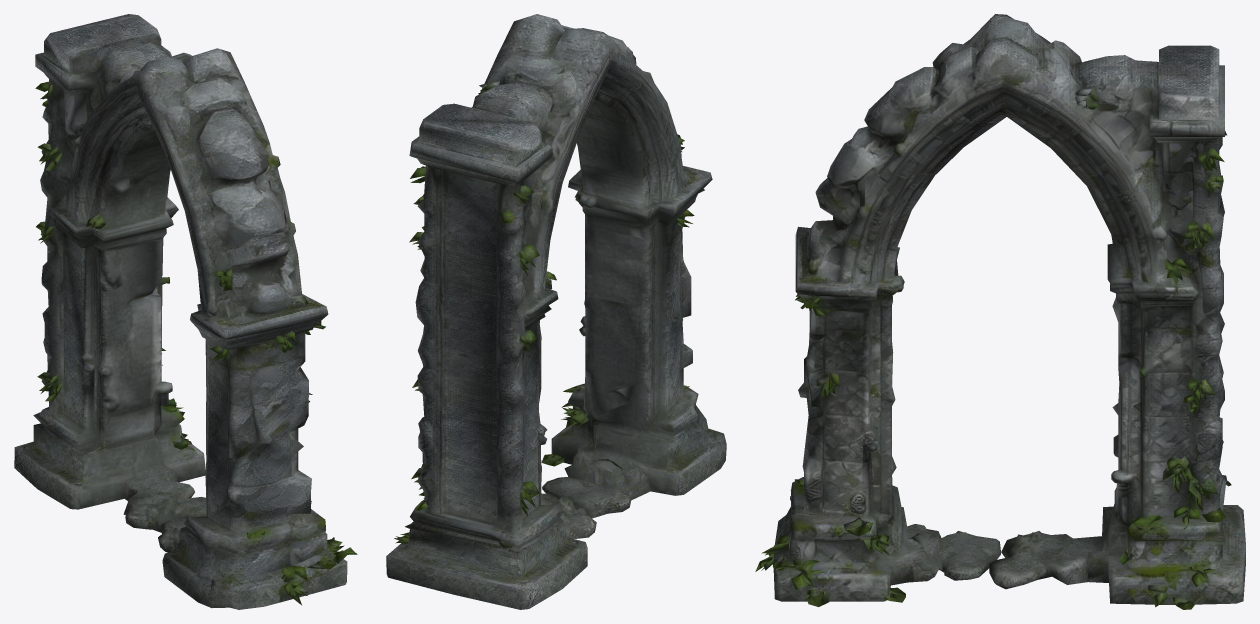
The model's file is prop_ruin_arch.glb.
3 views of the same model, side by side, from view 1: azimuth 30°, elevation 25°; view 2: azimuth 150°, elevation 25°; view 3: azimuth 270°, elevation 25° (orthographic). The views are drawn at different scales.
Parts seen in each view (by area): view 1: tripo_node_ab6c5673-3491-4bb0-8748-07fbe7a5b8f9; view 2: tripo_node_ab6c5673-3491-4bb0-8748-07fbe7a5b8f9; view 3: tripo_node_ab6c5673-3491-4bb0-8748-07fbe7a5b8f9.
Boxes of the visible parts, x1,y1,x2,y2 form: tripo_node_ab6c5673-3491-4bb0-8748-07fbe7a5b8f9: [14, 14, 357, 609]; tripo_node_ab6c5673-3491-4bb0-8748-07fbe7a5b8f9: [386, 14, 726, 609]; tripo_node_ab6c5673-3491-4bb0-8748-07fbe7a5b8f9: [755, 14, 1245, 609].
Bounding box in the file's own units: 0.3418 × 0.998 × 0.8262.
Materials: 1 (1 with a texture image).
